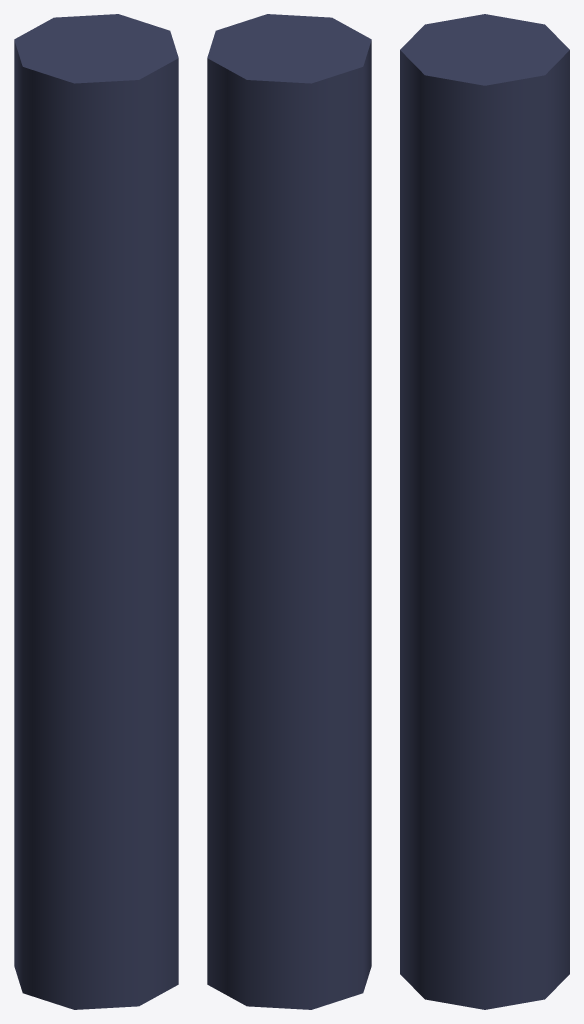
File: FanPole.obj
3 renders of one model, left to right at view 1: azimuth 30°, elevation 25°; view 2: azimuth 150°, elevation 25°; view 3: azimuth 270°, elevation 25°, orthographic.
Visible parts, largest first — view 1: FanPole; view 2: FanPole; view 3: FanPole.
Part boxes in pixels (box(x1,y1,x2,y2)): FanPole: box(14, 14, 178, 1009); FanPole: box(207, 14, 371, 1009); FanPole: box(400, 14, 569, 1009).
Bounding box in the file's own units: 0.25 × 1.5 × 0.25.
